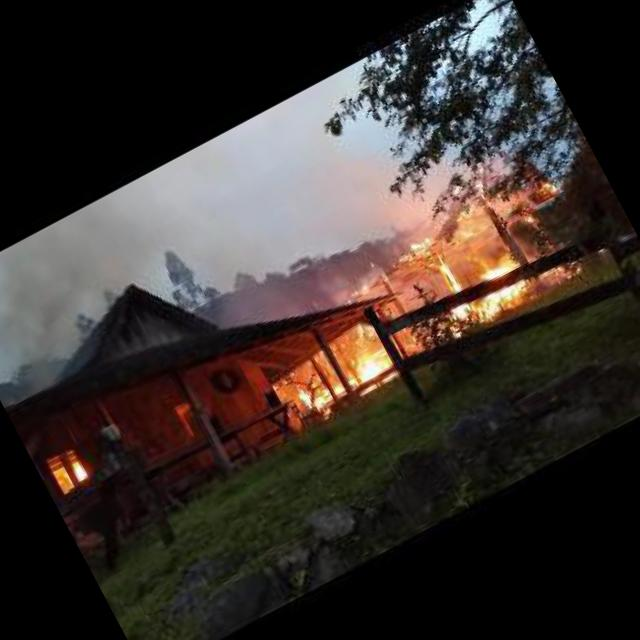fire: (294, 340, 399, 421), (438, 271, 528, 337), (420, 254, 460, 298), (472, 252, 516, 285), (394, 232, 436, 262), (59, 460, 89, 489), (350, 313, 378, 341), (346, 278, 370, 298), (538, 176, 560, 194)
smoke: (0, 202, 158, 408)
